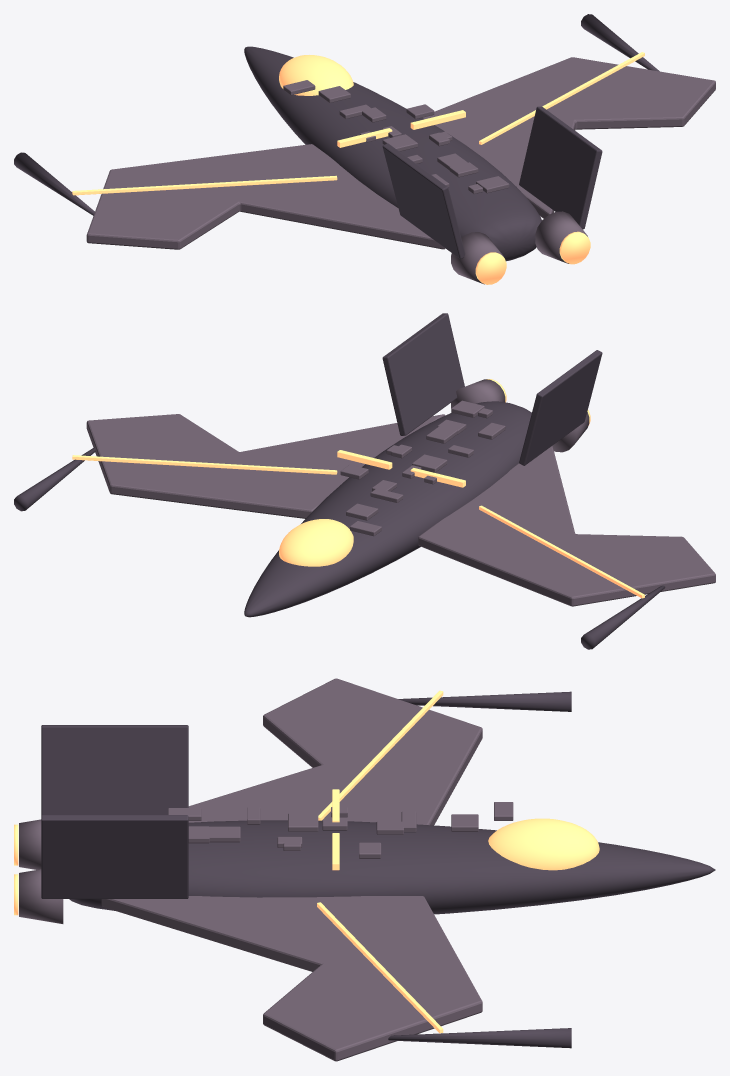
Rendered from enemy.glb.
3 renders of one model, top to bottom at view 1: azimuth 30°, elevation 25°; view 2: azimuth 150°, elevation 25°; view 3: azimuth 270°, elevation 25°, orthographic. The views are drawn at different scales.
Visible parts, largest first — view 1: sickle, body, fin.001, fin, eye, exhaust.001, edge, exhaust, spike, spike.001, edge.001, exhaust_glow.001 (+2 smaller); view 2: sickle, body, fin.001, fin, eye, edge.001, spike, spike.001, edge, exhaust.001; view 3: sickle, body, fin, fin.001, eye, spike.001, spike, exhaust.001, edge.001, exhaust, edge.
Boxes of the visible parts, x1,y1,x2,y2 form: sickle: [86, 57, 715, 249]; body: [244, 46, 541, 261]; fin.001: [519, 106, 602, 229]; fin: [382, 143, 465, 259]; eye: [279, 55, 353, 95]; exhaust.001: [535, 211, 587, 263]; edge: [72, 175, 337, 195]; exhaust: [451, 232, 503, 284]; spike: [14, 152, 94, 215]; spike.001: [581, 14, 659, 71]; edge.001: [479, 52, 644, 144]; exhaust_glow.001: [559, 231, 590, 264]; sickle: [86, 414, 715, 606]; body: [244, 401, 531, 617]; fin.001: [382, 313, 464, 435]; fin: [519, 350, 602, 465]; eye: [279, 519, 353, 566]; edge.001: [72, 455, 337, 474]; spike: [581, 585, 665, 649]; spike.001: [14, 447, 95, 511]; edge: [479, 505, 644, 598]; exhaust.001: [451, 379, 505, 408]; sickle: [101, 678, 482, 1061]; body: [69, 820, 715, 914]; fin: [41, 725, 188, 815]; fin.001: [41, 815, 188, 898]; eye: [488, 818, 599, 870]; spike.001: [388, 1028, 571, 1048]; spike: [398, 691, 571, 711]; exhaust.001: [19, 869, 63, 923]; edge.001: [317, 902, 443, 1033]; exhaust: [19, 819, 41, 869]; edge: [318, 690, 443, 820].
Bounding box in the file's own units: 5.99 × 1 × 4.76.
